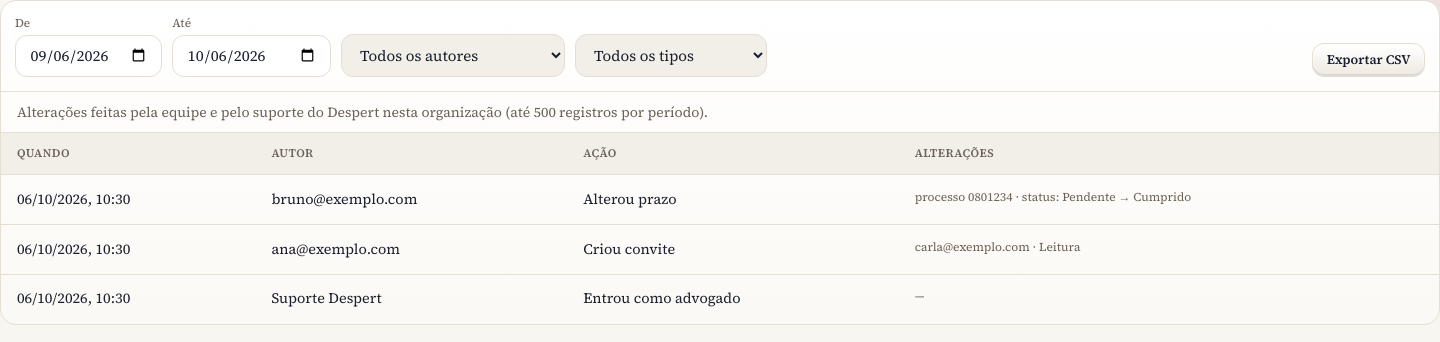
Test: tela Auditoria › filtra por autor (inclusive o suporte) e por tipo
Select "Suporte Despert" in the dropdown named "Filtrar por autor" at (453, 56), box x1=341 y1=34 x2=565 y2=77
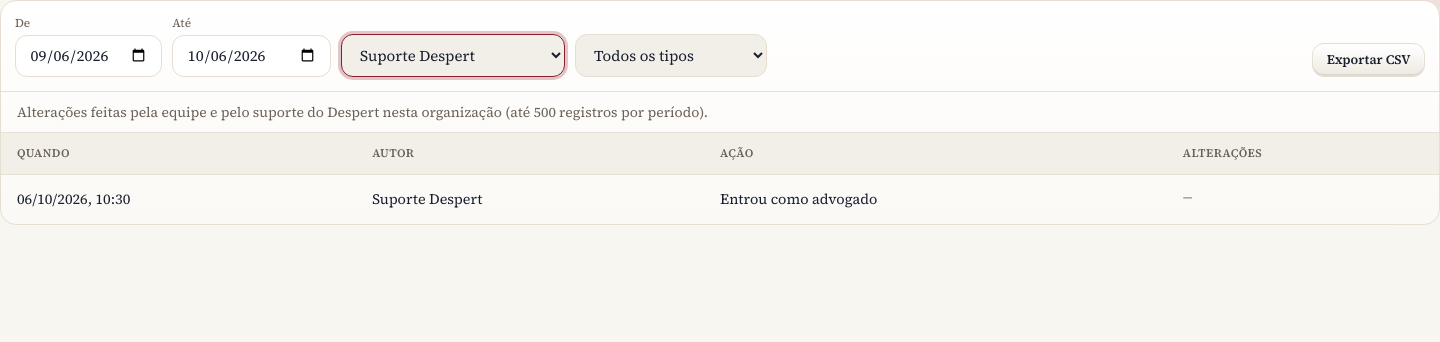
Select "bruno@exemplo.com" in the dropdown named "Filtrar por autor" at (453, 56), box x1=341 y1=34 x2=565 y2=77
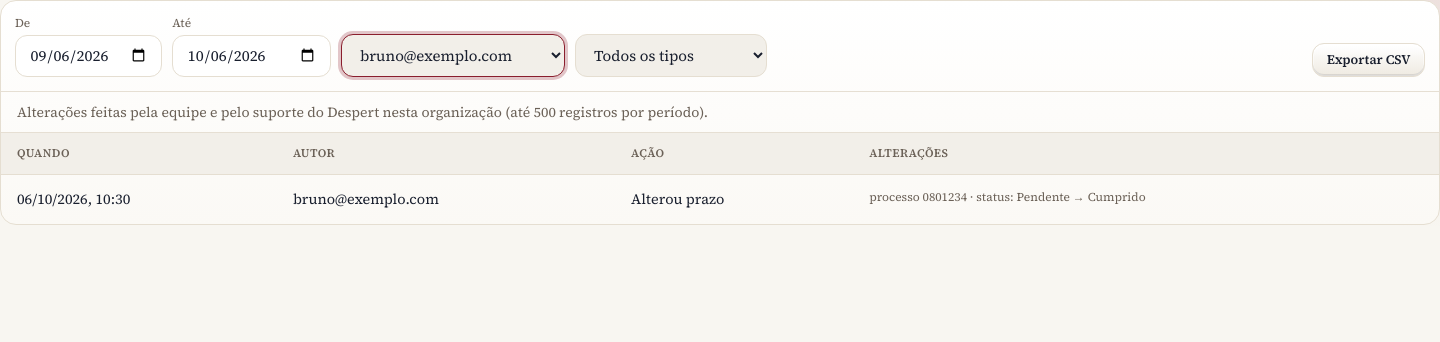
Select "Equipe" in the dropdown named "Filtrar por tipo" at (671, 56), box x1=575 y1=34 x2=767 y2=77
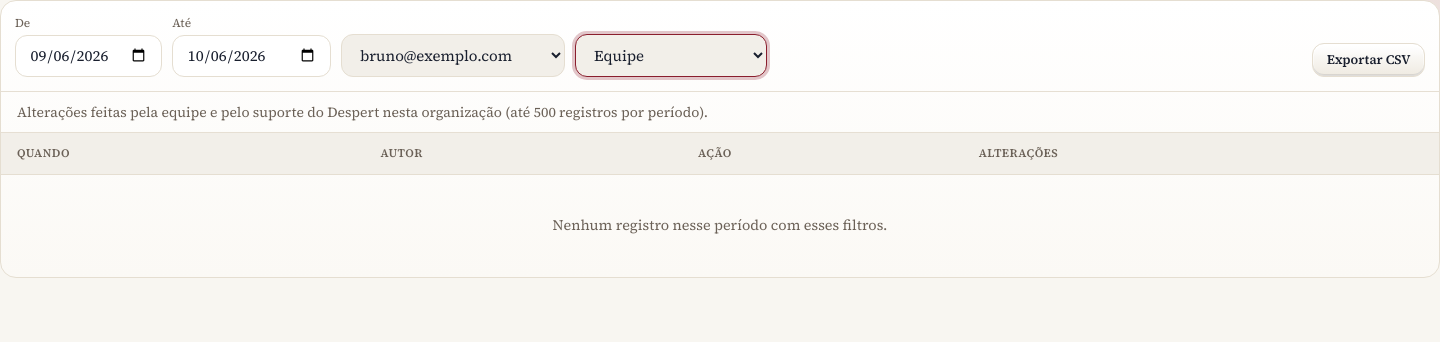
Expected: the text "Nenhum registro nesse período com esses filtros." is shown, x1=1 y1=175 x2=1439 y2=277
